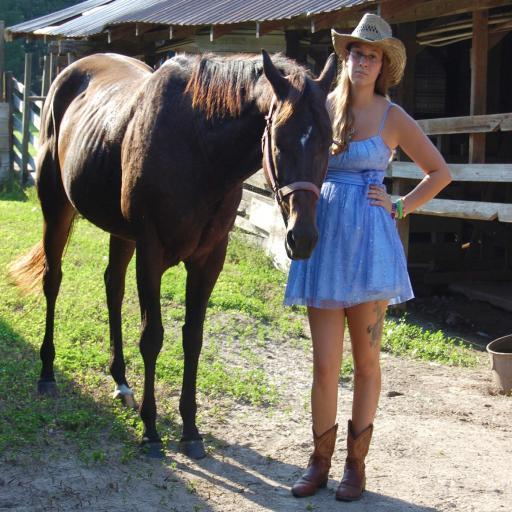horse: (4, 44, 336, 460)
